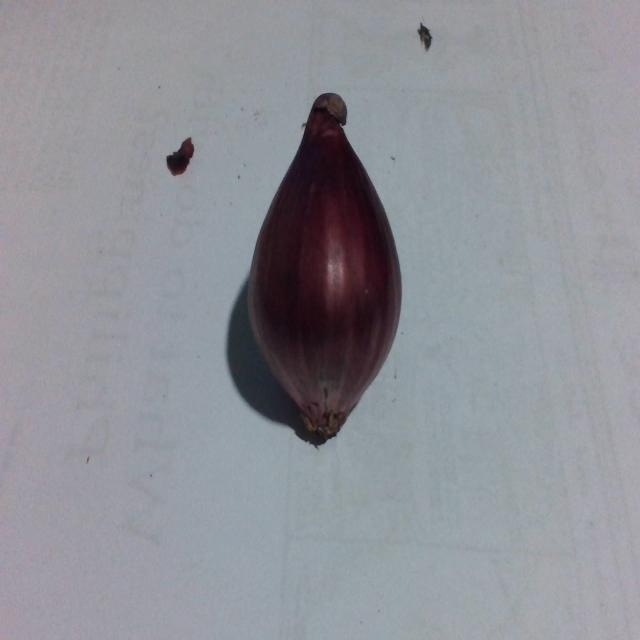onion: (225, 59, 415, 460)
